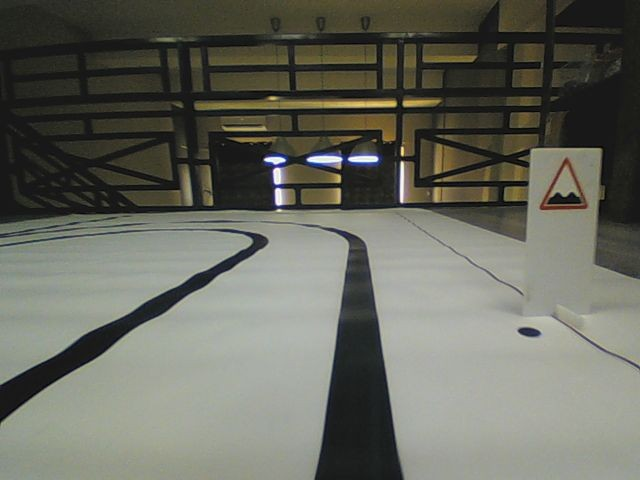Nerov: (538, 156, 591, 211)
